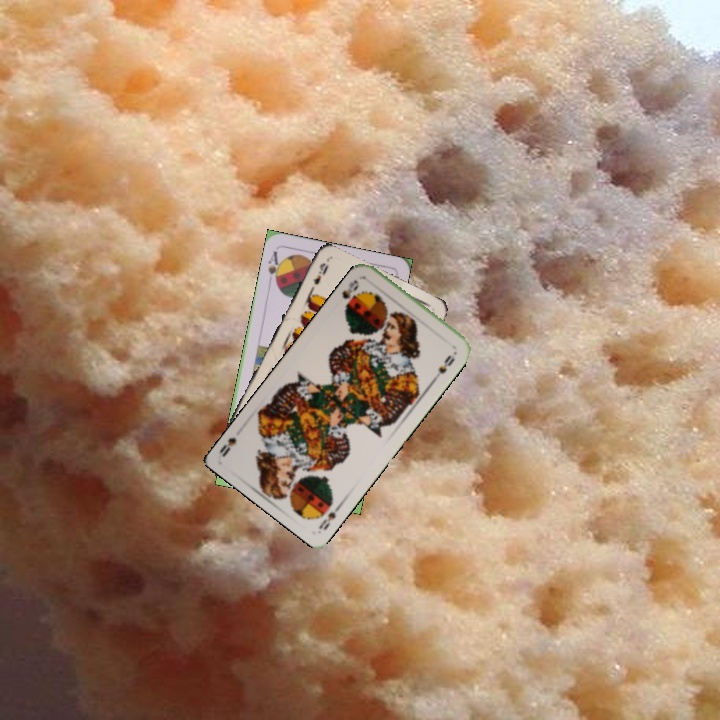E9: (306, 259, 331, 295)
SA: (264, 247, 284, 288)
SO: (314, 498, 345, 533), (338, 275, 362, 302)
